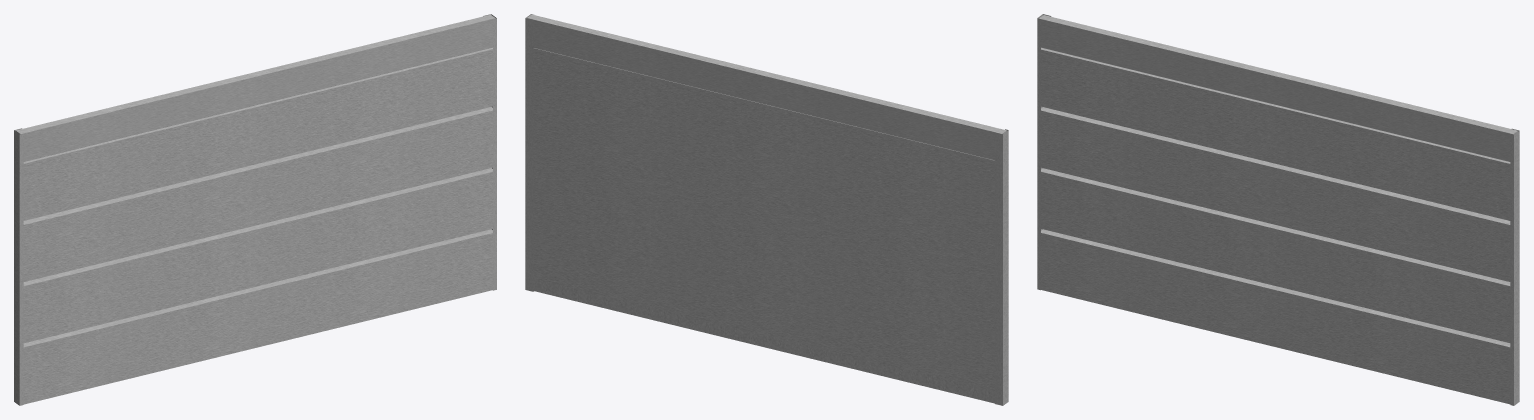
The model's file is backSlashAl40.glb.
3 renders of one model, left to right at view 1: azimuth 30°, elevation 25°; view 2: azimuth 150°, elevation 25°; view 3: azimuth 330°, elevation 25°, orthographic.
Parts seen in each view (by area): view 1: backsplashAlu40; view 2: backsplashAlu40; view 3: backsplashAlu40.
Boxes of the visible parts, box(x1,y1,x2,y2) form: backsplashAlu40: box(14, 14, 496, 405); backsplashAlu40: box(525, 14, 1008, 405); backsplashAlu40: box(1037, 14, 1519, 405).
Bounding box in the file's own units: 1.02 × 0.5532 × 0.0215.
2 materials, 1 textured.
